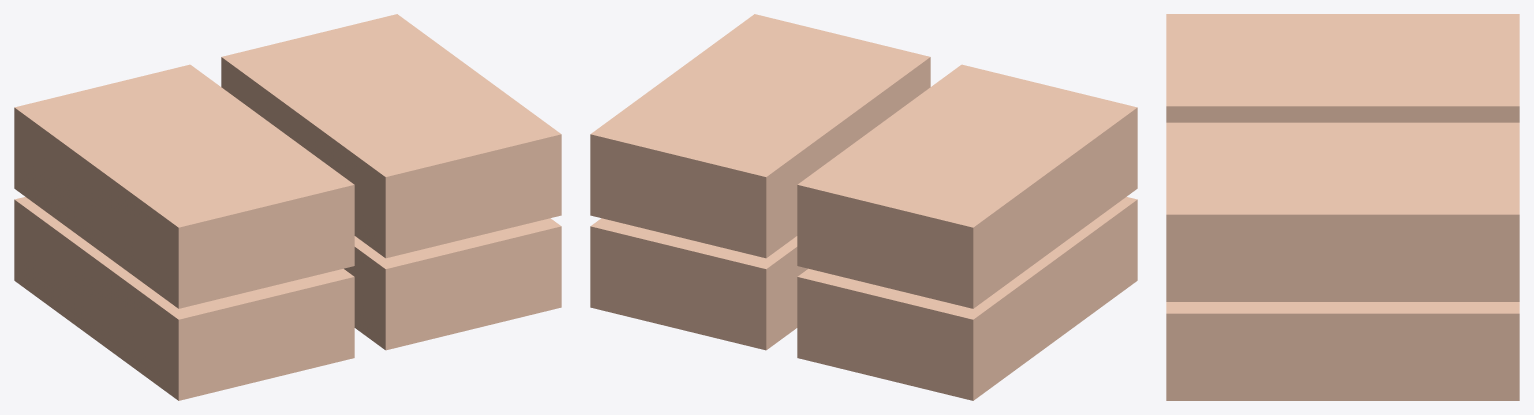
The model's file is supply-clay.glb.
3 renders of one model, left to right at view 1: azimuth 30°, elevation 25°; view 2: azimuth 150°, elevation 25°; view 3: azimuth 270°, elevation 25°, orthographic. The views are drawn at different scales.
Visible parts, largest first — view 1: unit2, unit3, unit0, unit1; view 2: unit2, unit3, unit0, unit1; view 3: unit3, unit2, unit1.
Boxes of the visible parts, x1,y1,x2,y2 form: unit2: (14,64,354,308); unit3: (221,14,561,258); unit0: (14,197,354,400); unit1: (344,218,561,350); unit2: (797,64,1137,308); unit3: (590,14,930,258); unit0: (797,197,1137,400); unit1: (590,218,807,350); unit3: (1166,122,1519,301); unit2: (1166,14,1519,122); unit1: (1166,302,1519,400).
Size of the model in its own units: 0.74 by 0.32 by 0.55.
